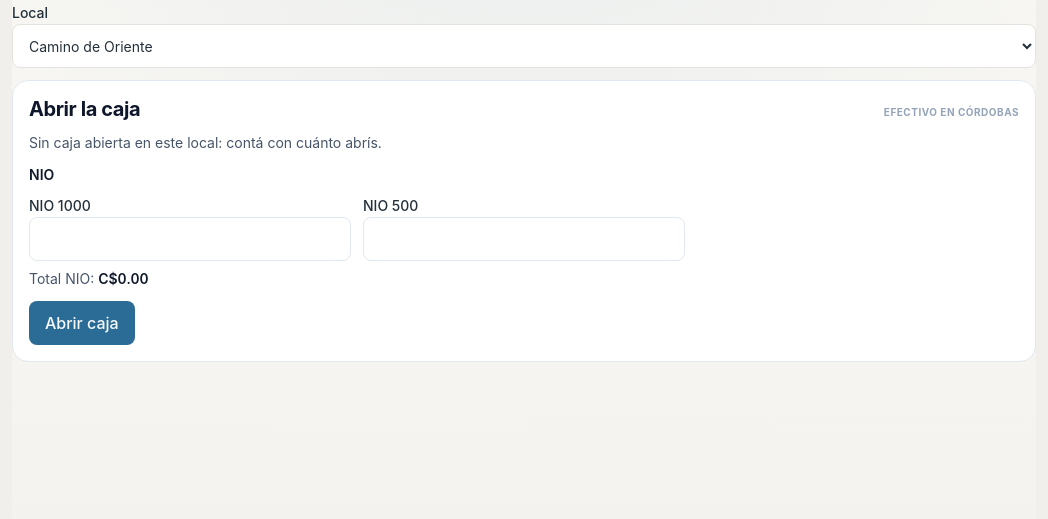
Test: CashView › con más de una sucursal, cambiar de local vuelve a pedir el estado del turno y cambia la grilla
The width and height of the screenshot is (1048, 519).
Expected: the number field named "Cantidad de billetes de NIO 1000" is shown, [29,217,351,261]
Select "Carretera Masaya" in the dropdown labelled "Local" at (524, 46), box [12,24,1036,68]
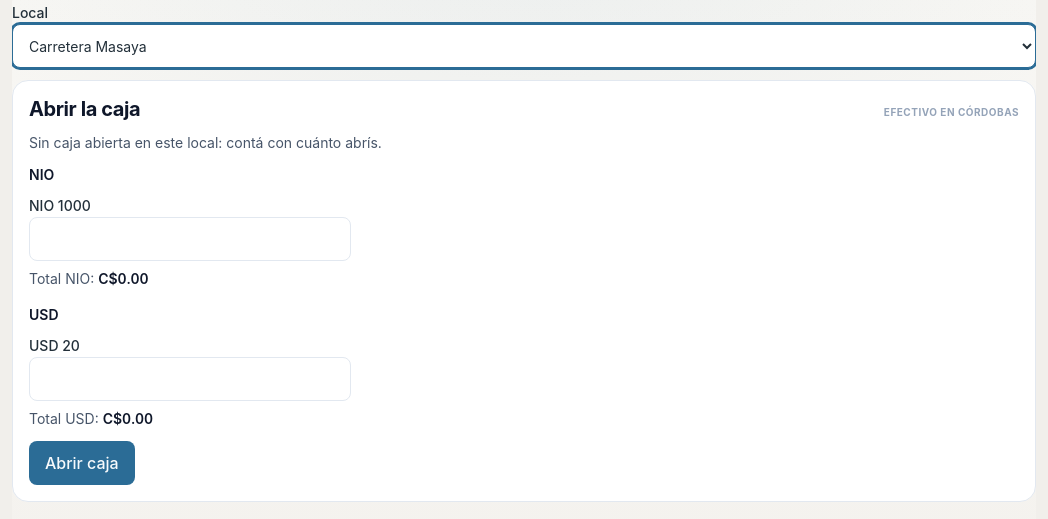
Now the number field named "Cantidad de billetes de USD 20" is shown, box [29,357,351,401]
